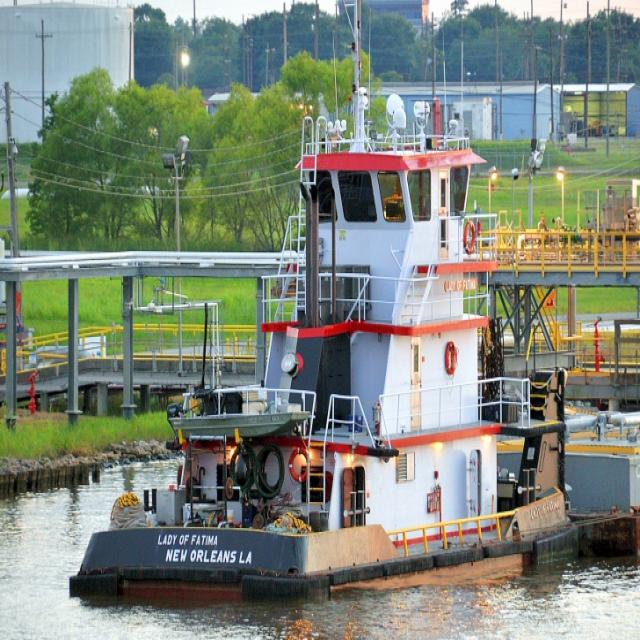tugboat: (58, 83, 586, 614)
